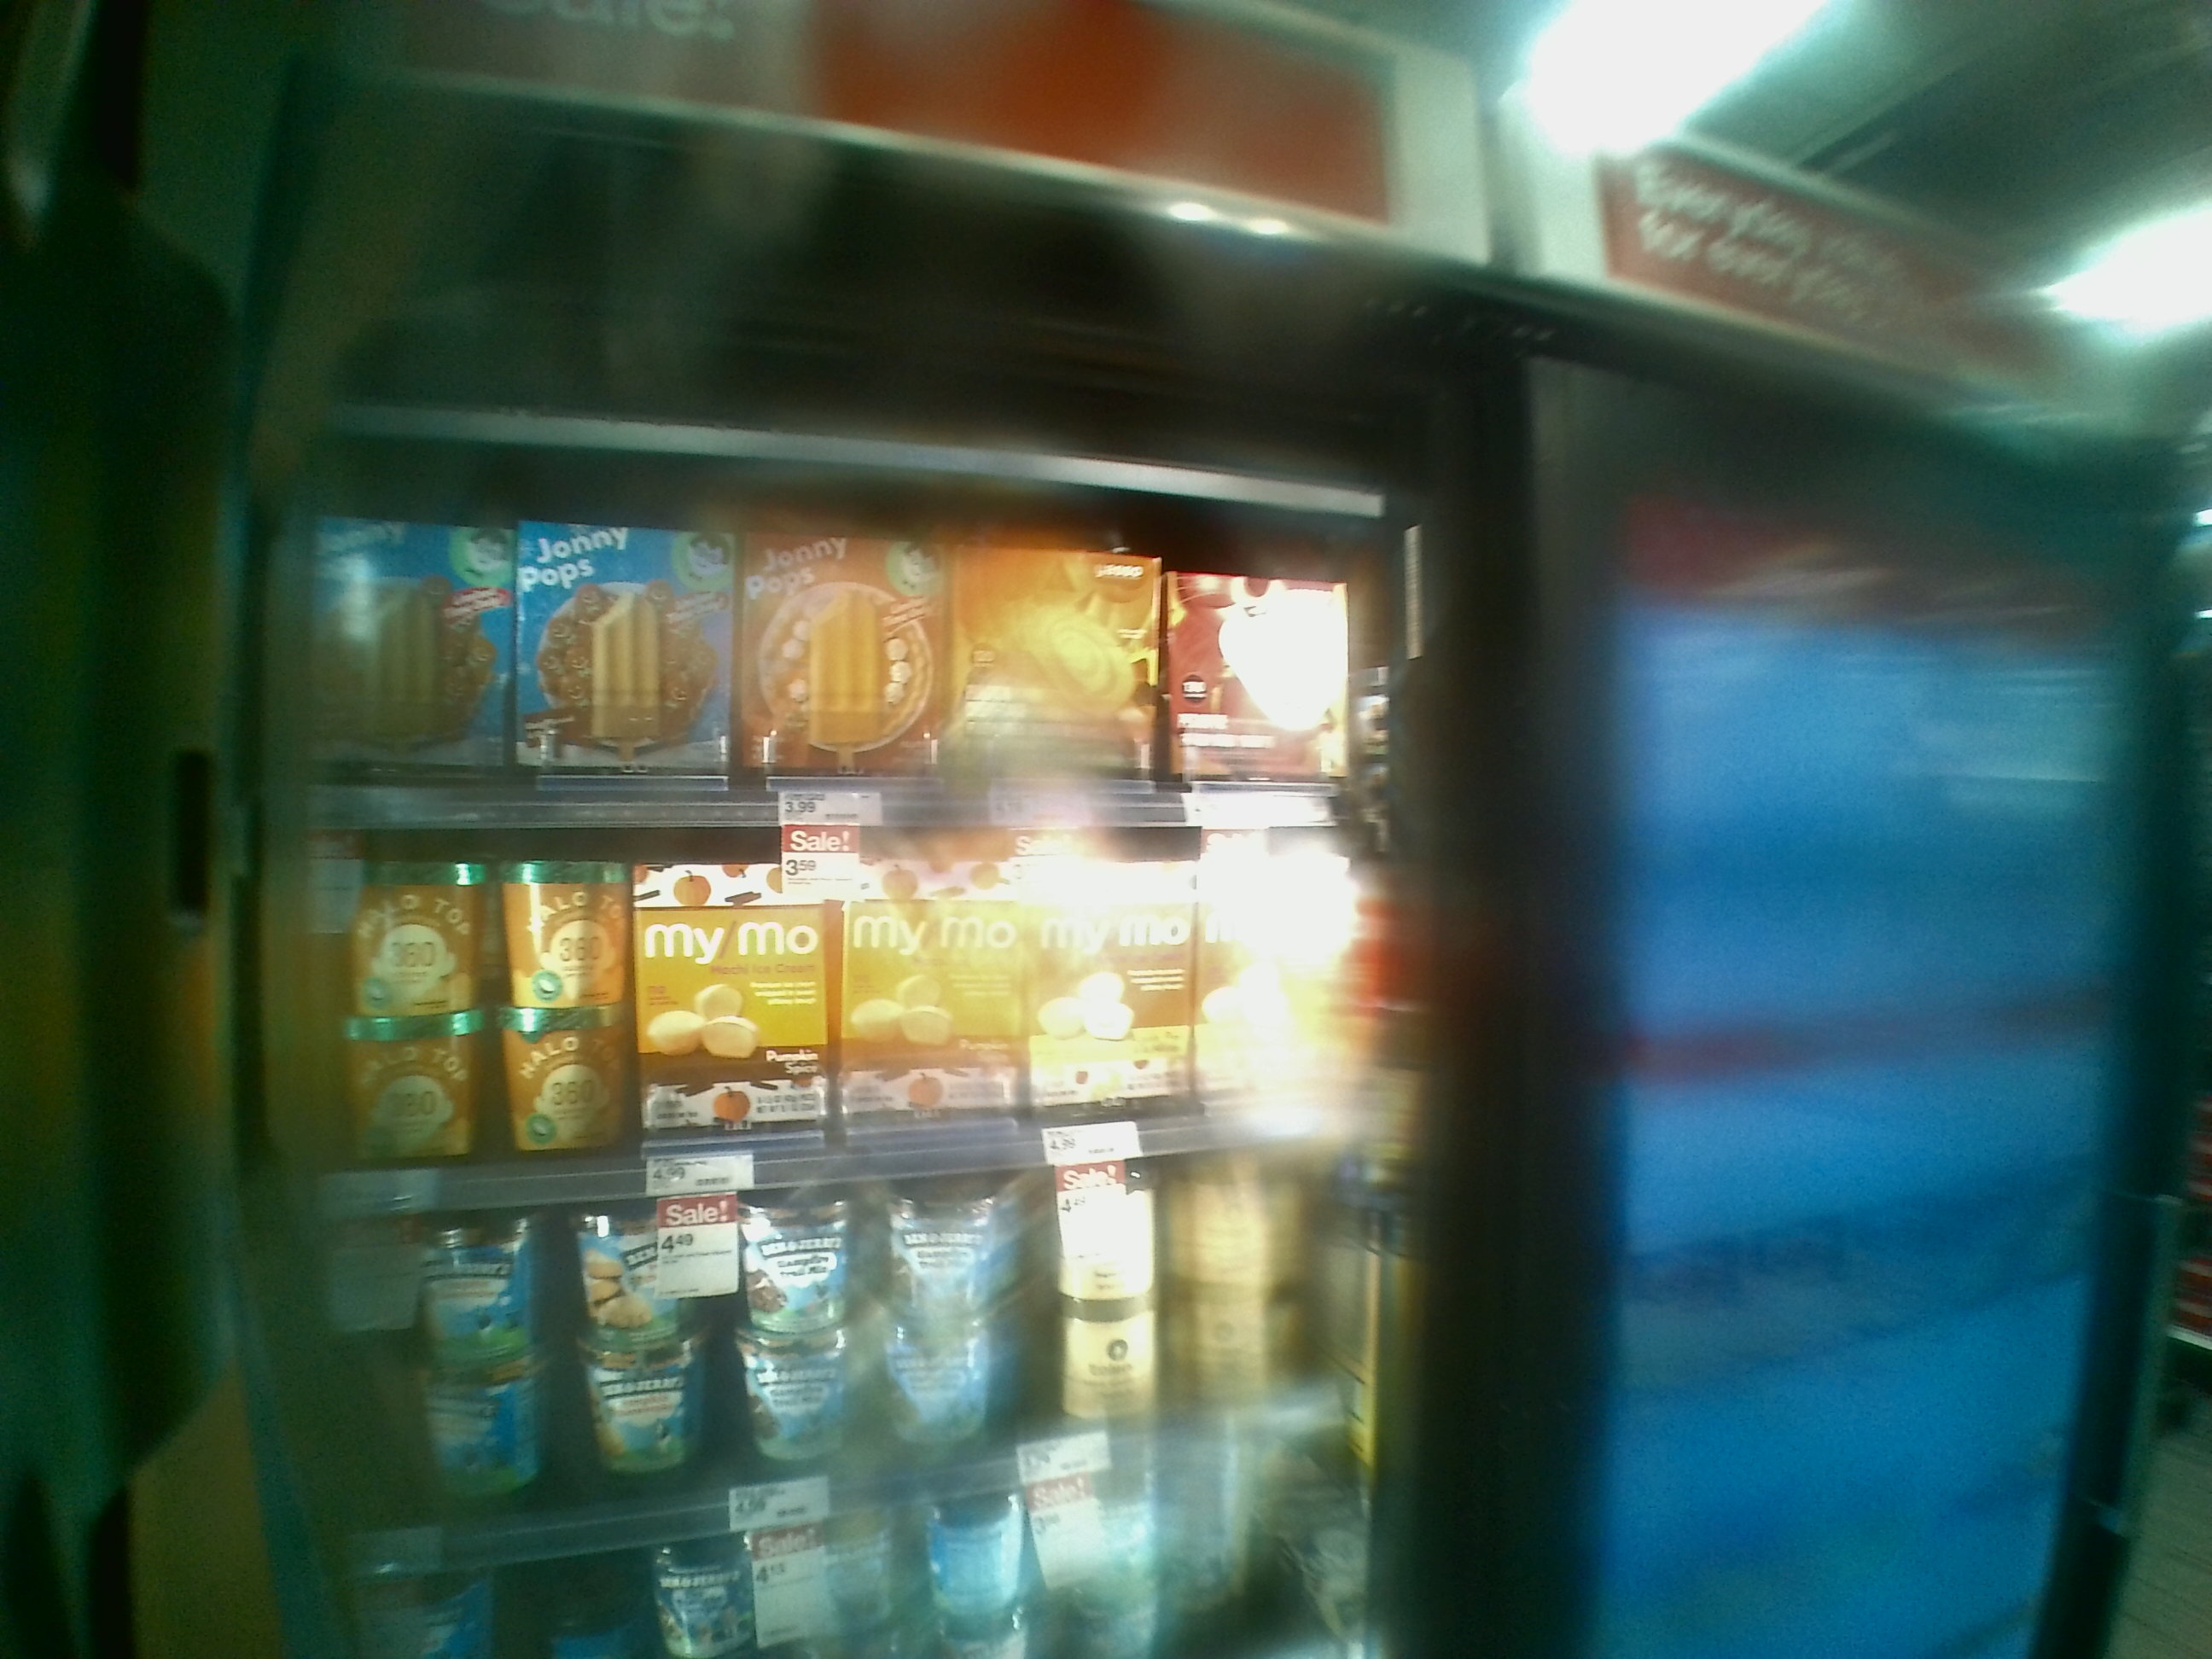shelf: (242, 1176, 1442, 1591), (253, 809, 1399, 1202), (265, 471, 1388, 826)
